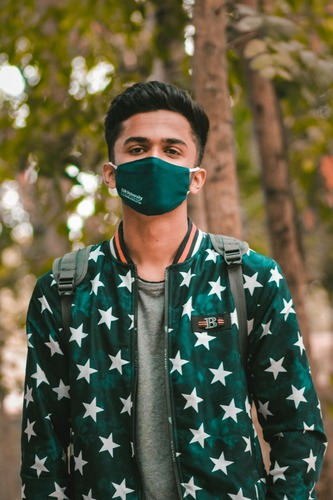with_mask: (114, 120, 193, 207)
